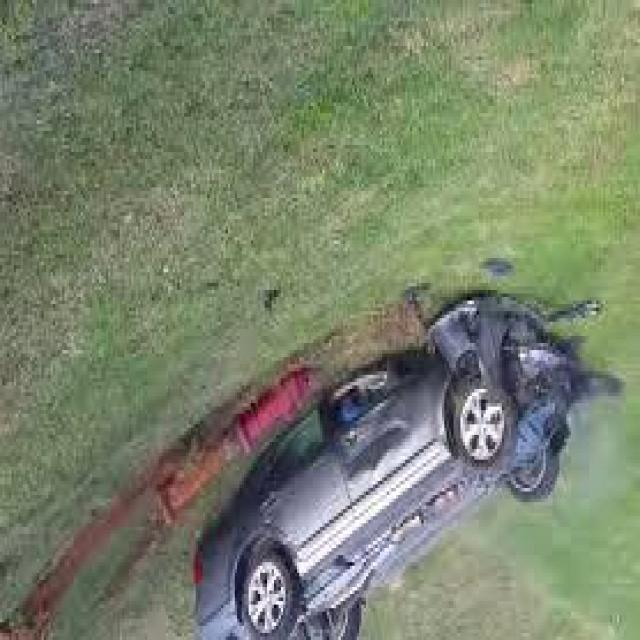severe: (190, 315, 577, 640)
